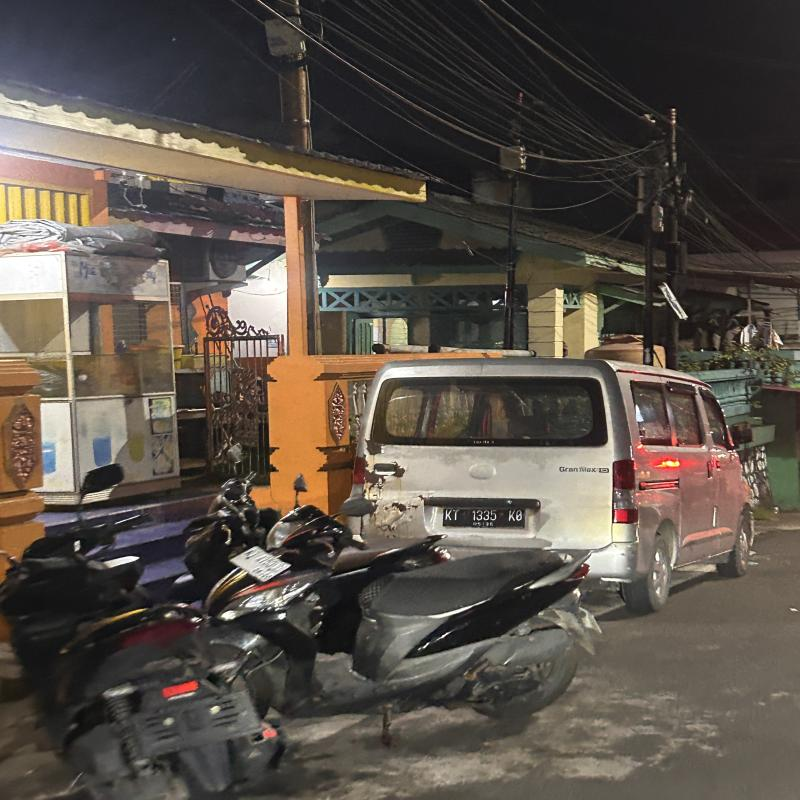license plate on a car: (439, 503, 532, 528)
